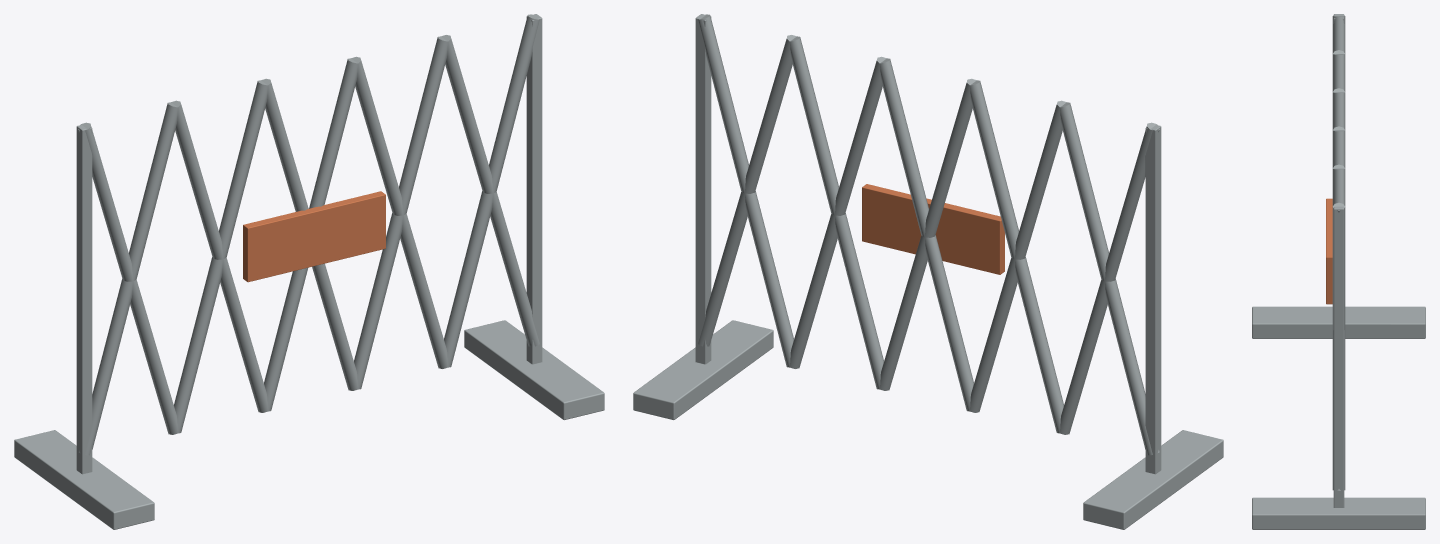
The model's file is extraction-routes-and-objectives-folding-access-gate-f9ed1c65__22175.glb.
3 renders of one model, left to right at view 1: azimuth 30°, elevation 25°; view 2: azimuth 150°, elevation 25°; view 3: azimuth 270°, elevation 25°, orthographic. The views are drawn at different scales.
Parts seen in each view (by area): view 1: folding-access-gate; view 2: folding-access-gate; view 3: folding-access-gate.
Boxes of the visible parts, x1,y1,x2,y2 form: folding-access-gate: (14, 14, 604, 529); folding-access-gate: (633, 14, 1223, 529); folding-access-gate: (1252, 14, 1425, 529).
Size of the model in its own units: 1.42 by 1 by 0.5.
